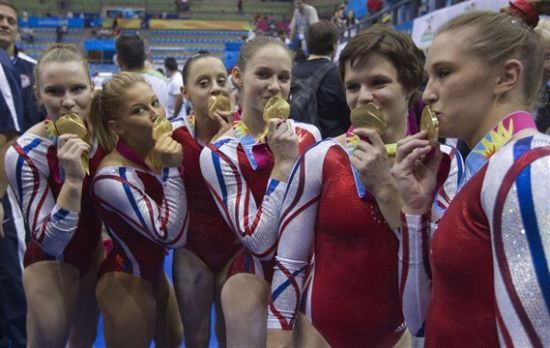face: (344, 58, 405, 132), (239, 54, 294, 110), (39, 64, 89, 121), (121, 88, 168, 145), (186, 63, 236, 111)
face_mask: (420, 39, 486, 132)
